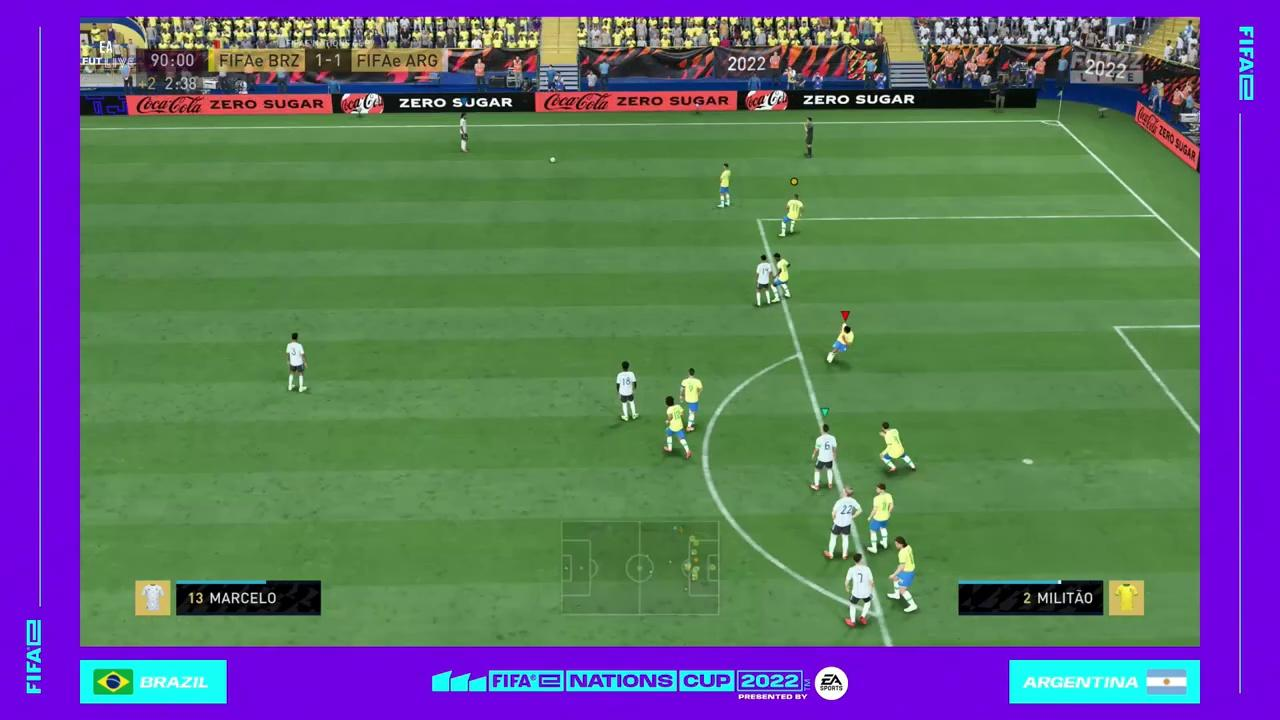scoreboard: (214, 49, 451, 72)
timestamp: (135, 44, 208, 102)
